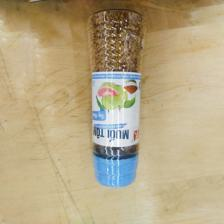TayNinh_blue: (85, 8, 146, 188)
